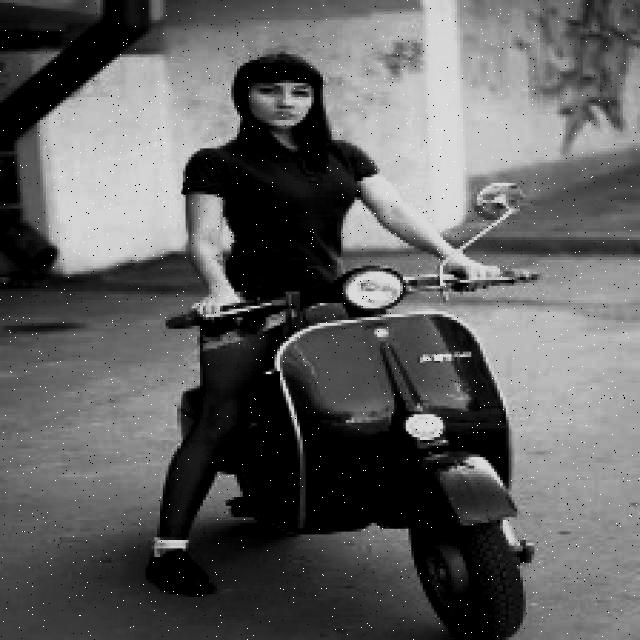Bike: (241, 281, 571, 639)
